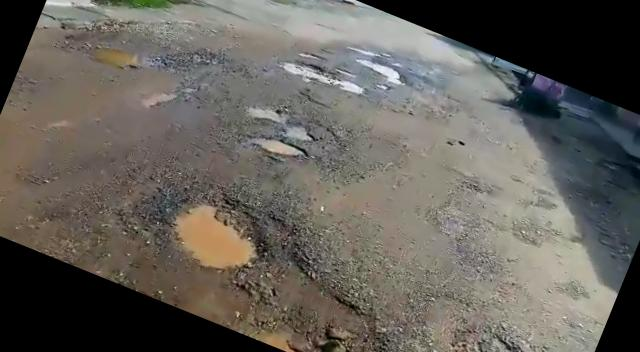pothole: (160, 185, 274, 284), (276, 50, 366, 102), (239, 94, 321, 146), (244, 126, 307, 166), (85, 36, 141, 78), (350, 50, 410, 86)
